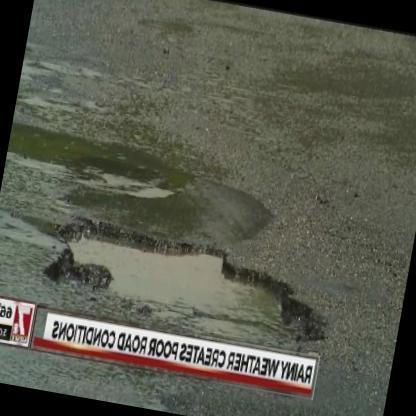pothole: (42, 212, 330, 362)
